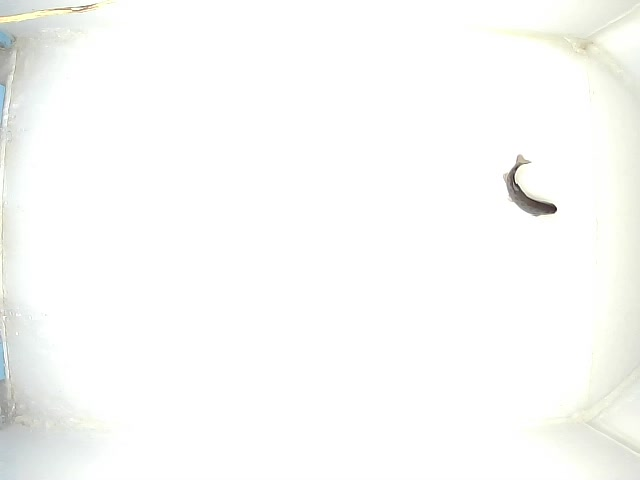fish: (502, 153, 558, 217)
